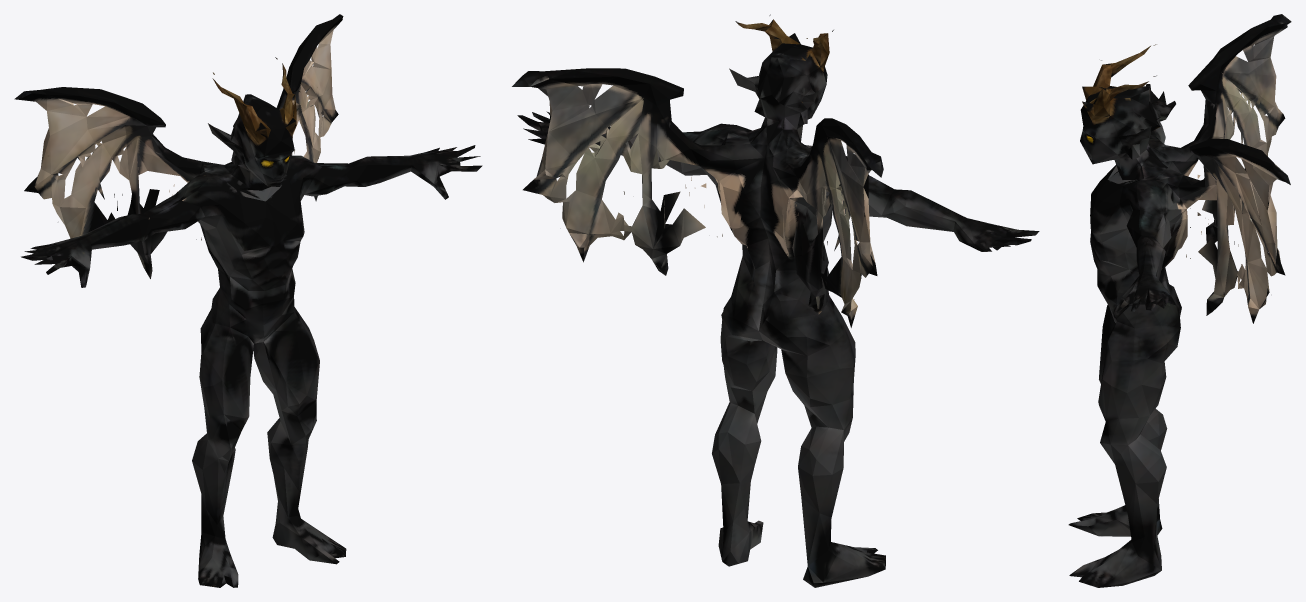
The model's file is imp.gltf.
The picture shows the model from 3 angles, left to right: view 1: azimuth 30°, elevation 25°; view 2: azimuth 150°, elevation 25°; view 3: azimuth 270°, elevation 25°; orthographic projection. The views are drawn at different scales.
Visible parts, largest first — view 1: imp; view 2: imp; view 3: imp.
Boxes of the visible parts, x1=… form: imp: x1=14, y1=14, x2=482, y2=587; imp: x1=512, y1=14, x2=1039, y2=587; imp: x1=1068, y1=14, x2=1291, y2=587.
Size of the model in its own units: 0.9799 by 1 by 0.4079.
1 material, 1 textured.
